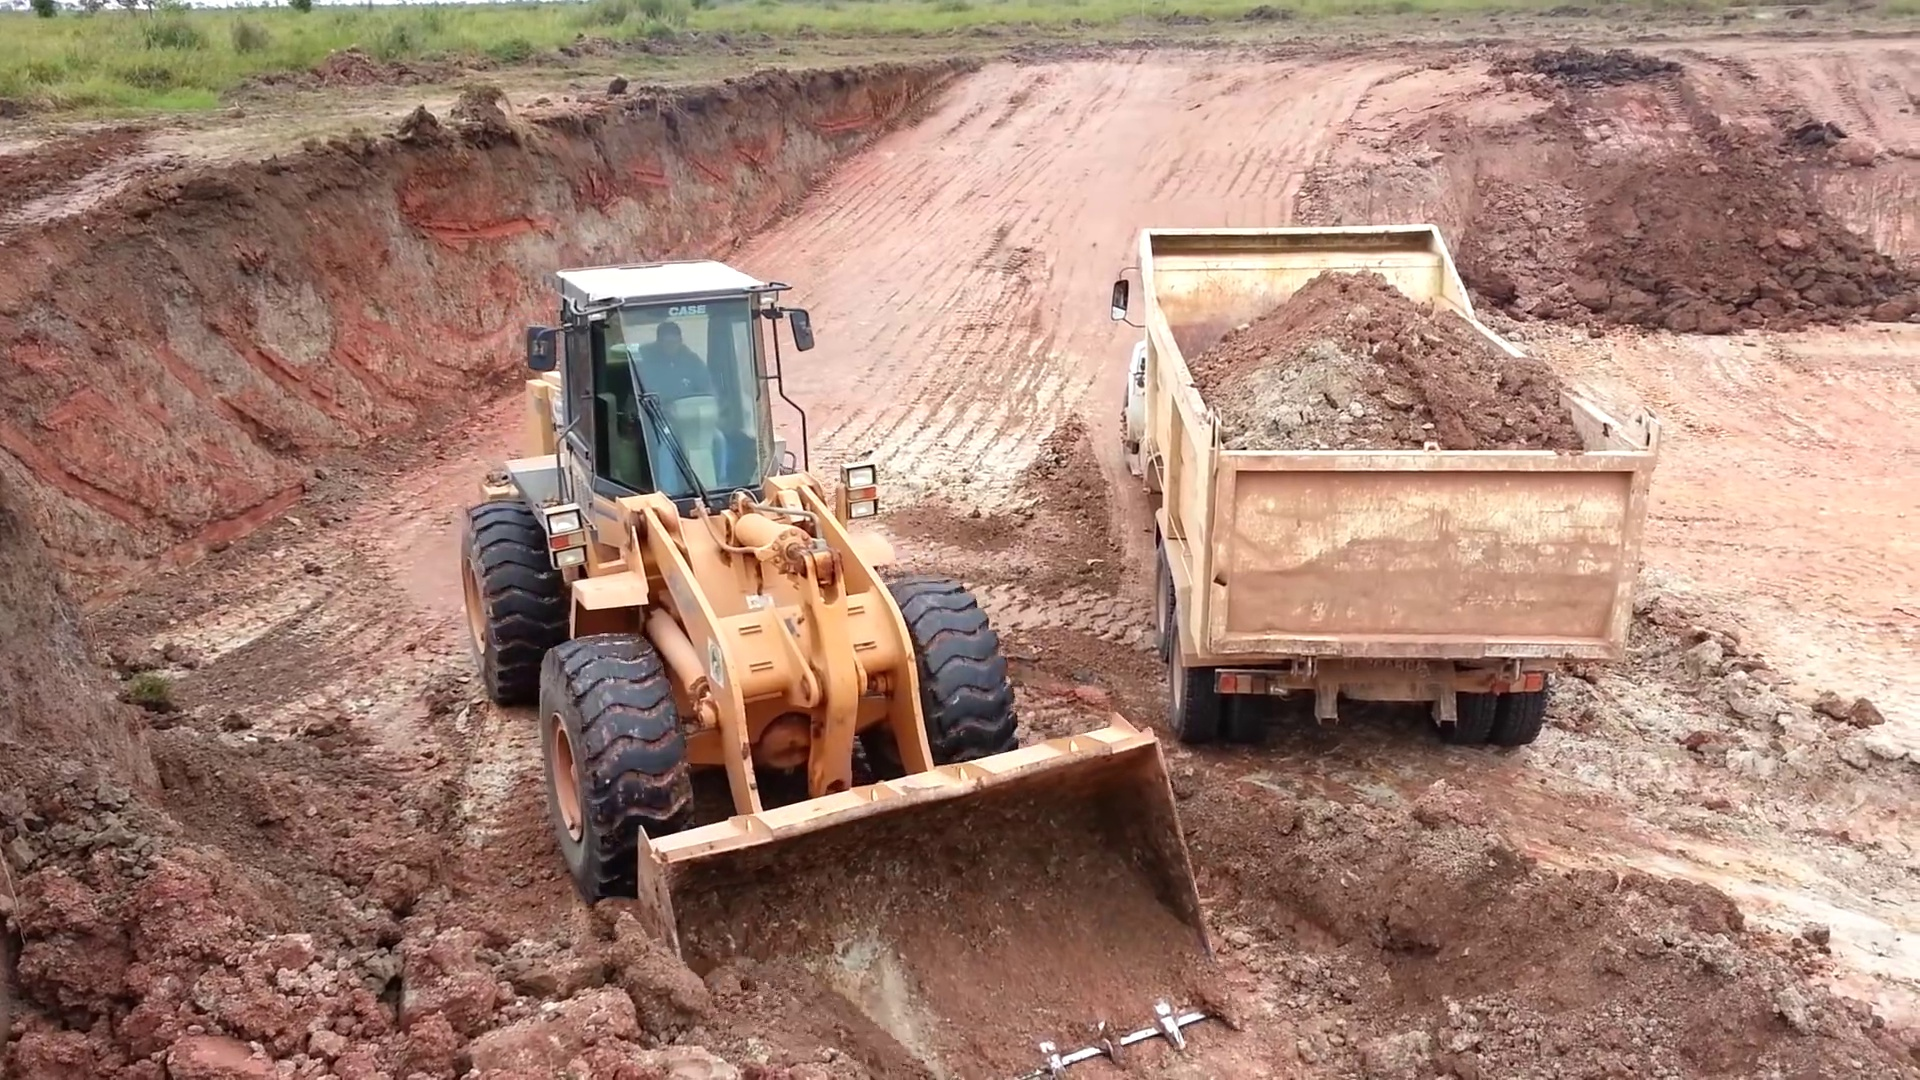dumper: (1110, 224, 1665, 740)
wheel loader: (460, 258, 1247, 1063)
